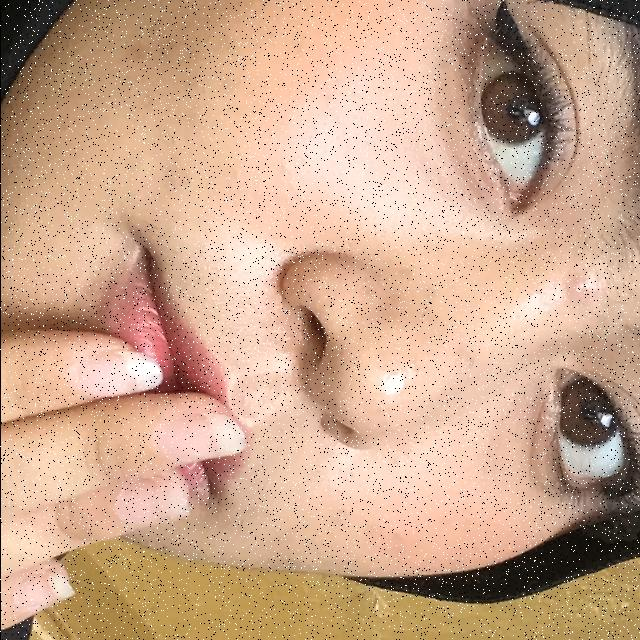ganteng: (0, 250, 304, 640)
